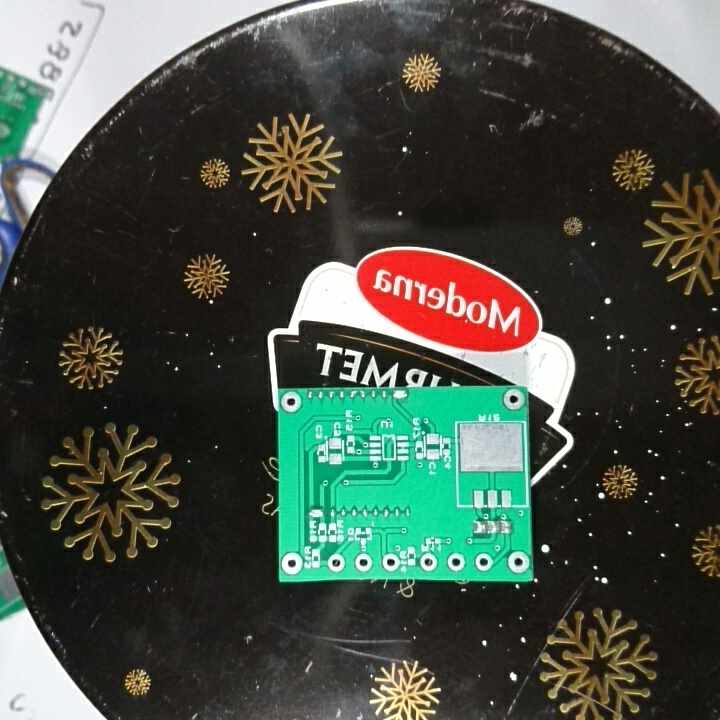F: (278, 389, 304, 417), (279, 549, 304, 577), (506, 550, 531, 574), (501, 389, 525, 411), (444, 552, 467, 574), (417, 550, 438, 574), (325, 551, 347, 573), (380, 552, 400, 574), (354, 552, 374, 573), (474, 552, 492, 575)
P: (306, 506, 325, 519), (391, 389, 410, 401)
